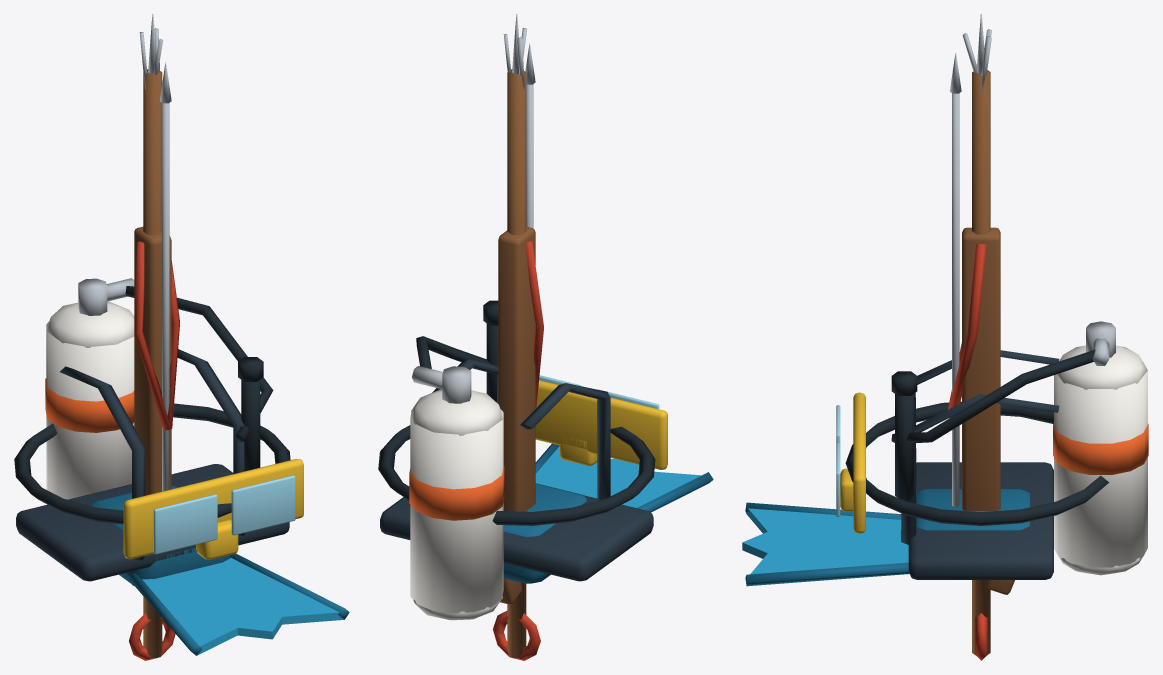
Rendered from divegear.glb.
The picture shows the model from 3 angles, left to right: view 1: azimuth 30°, elevation 25°; view 2: azimuth 150°, elevation 25°; view 3: azimuth 270°, elevation 25°; orthographic projection.
Parts seen in each view (by area): view 1: dive_tank, dive_mask, dive_fin, gun_band, gun_pole; view 2: dive_tank, gun_band, dive_mask, dive_fin, gun_pole; view 3: dive_tank, gun_band, dive_fin, dive_mask, gun_pole.
Boxes of the visible parts, x1,y1,x2,y2 form: dive_tank: (16,278,289,581); dive_mask: (14,357,303,559); dive_fin: (91,486,349,655); gun_band: (132,62,179,585); gun_pole: (129,14,175,660); dive_tank: (380,336,653,620); gun_band: (498,43,543,604); dive_mask: (378,300,667,525); dive_fin: (503,443,713,583); gun_pole: (492,14,540,660); dive_tank: (891,321,1148,579); gun_band: (948,53,1014,594); dive_fin: (742,489,1029,586); dive_mask: (836,371,1108,533); gun_pole: (962,14,991,660).
Size of the model in its own units: 0.6572 by 1.66 by 0.952.
